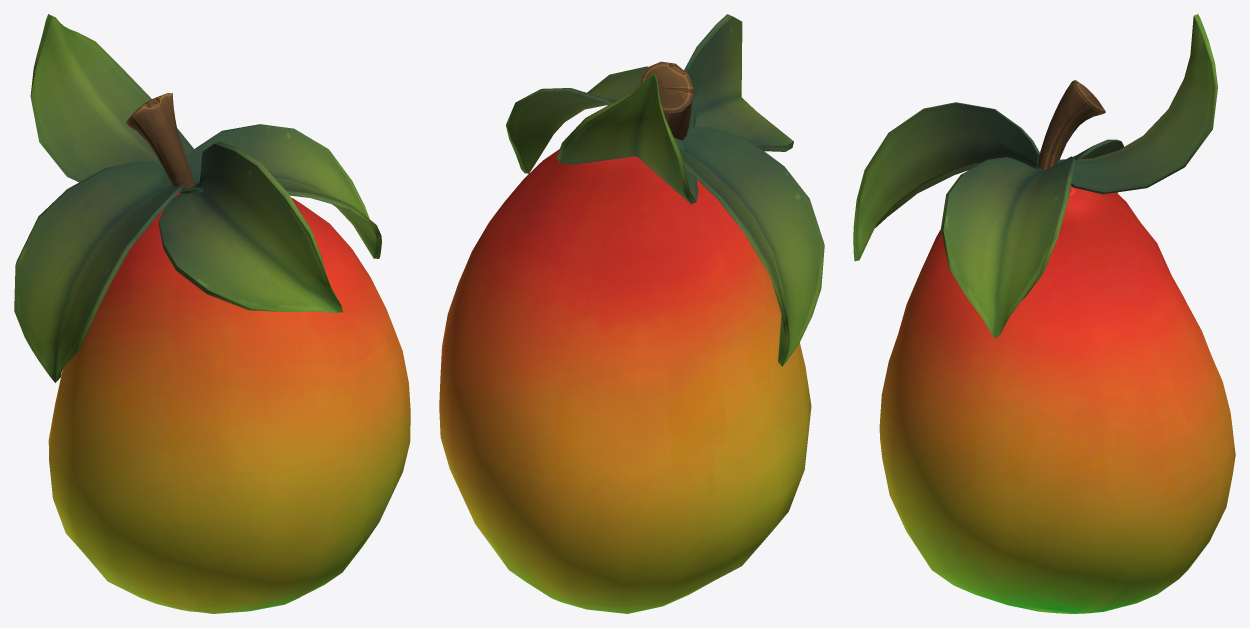
The model's file is Wumpa02.obj.
3 views of the same model, side by side, from view 1: azimuth 30°, elevation 25°; view 2: azimuth 150°, elevation 25°; view 3: azimuth 270°, elevation 25° (orthographic). The views are drawn at different scales.
Parts seen in each view (by area): view 1: SM_GP_Wumpa_02.mo_SM_GP_Wumpa_02.md; view 2: SM_GP_Wumpa_02.mo_SM_GP_Wumpa_02.md; view 3: SM_GP_Wumpa_02.mo_SM_GP_Wumpa_02.md.
Part boxes in pixels (box(x1,y1,x2,y2)): SM_GP_Wumpa_02.mo_SM_GP_Wumpa_02.md: box(14, 14, 410, 613); SM_GP_Wumpa_02.mo_SM_GP_Wumpa_02.md: box(439, 14, 824, 613); SM_GP_Wumpa_02.mo_SM_GP_Wumpa_02.md: box(853, 14, 1235, 613).
Size of the model in its own units: 0.1776 by 0.28 by 0.1791.
1 material, 1 textured.
